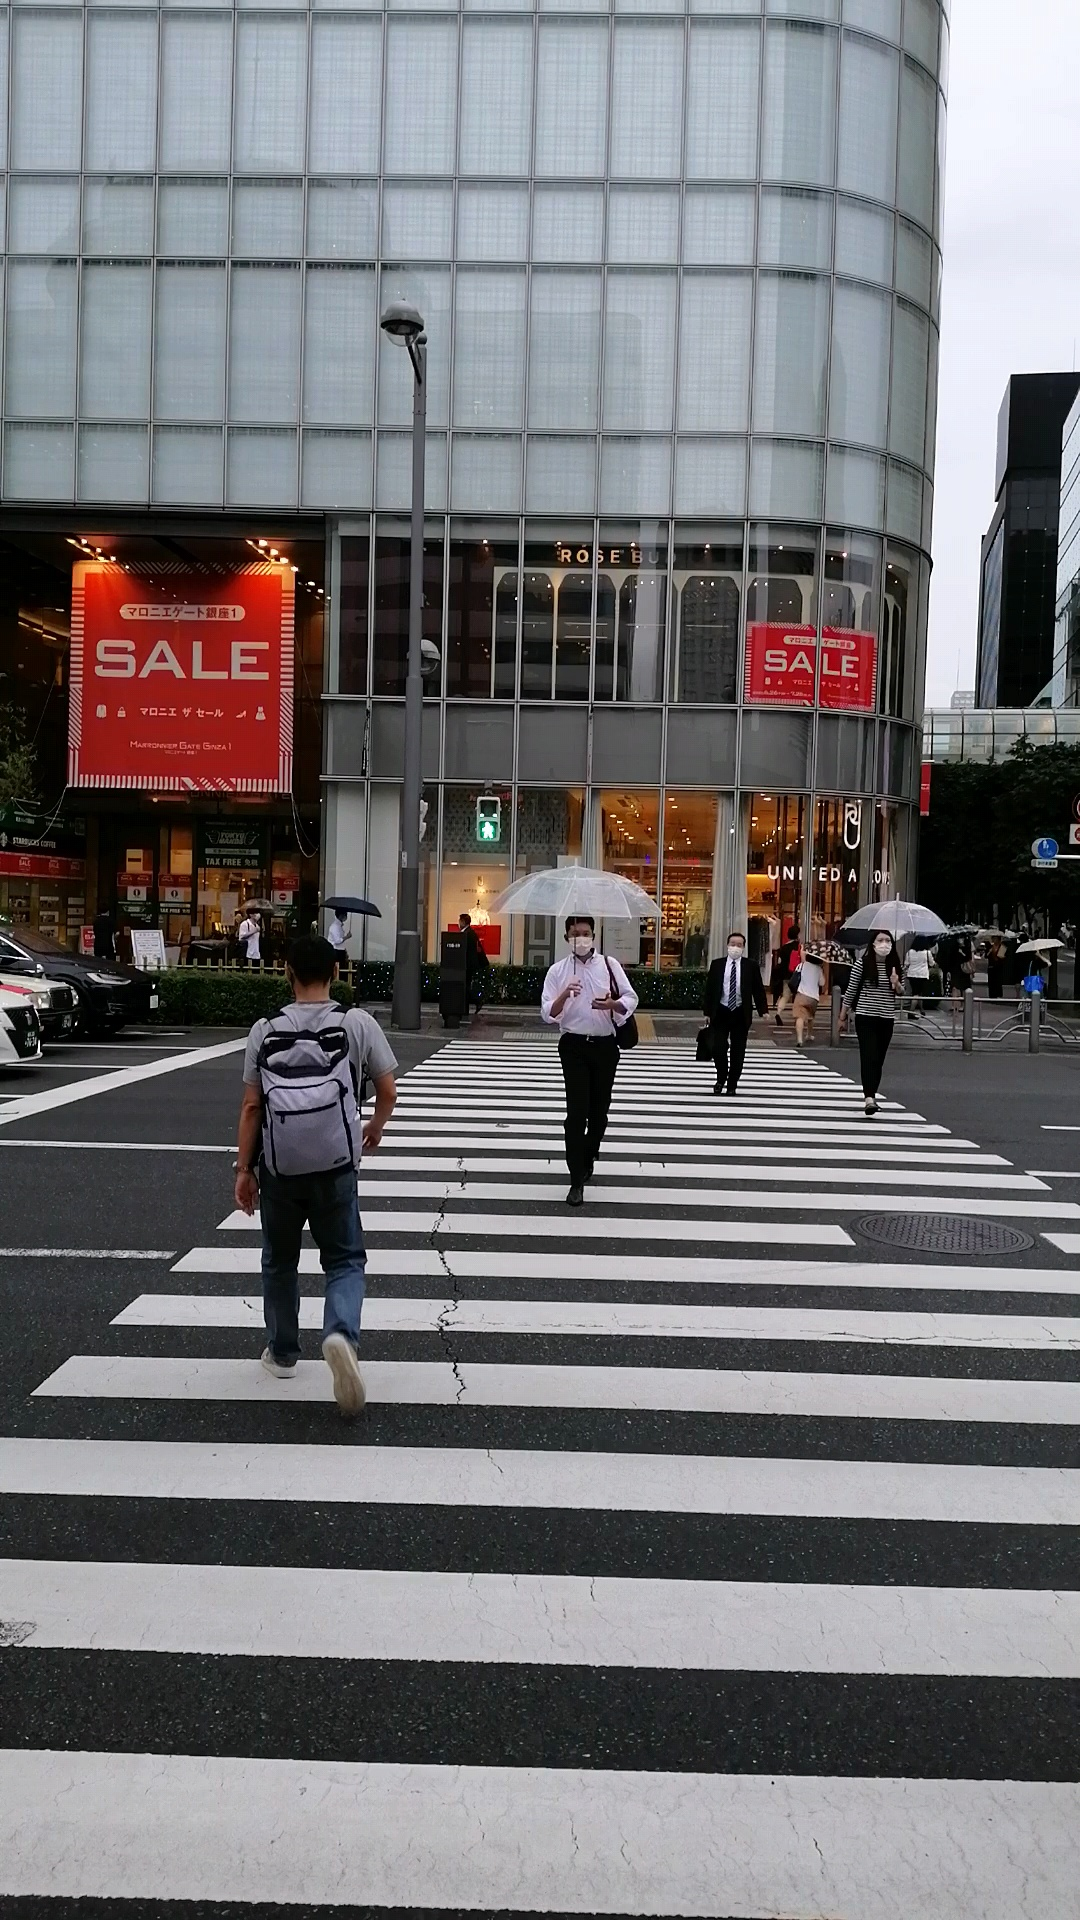green: (475, 793, 500, 843)
